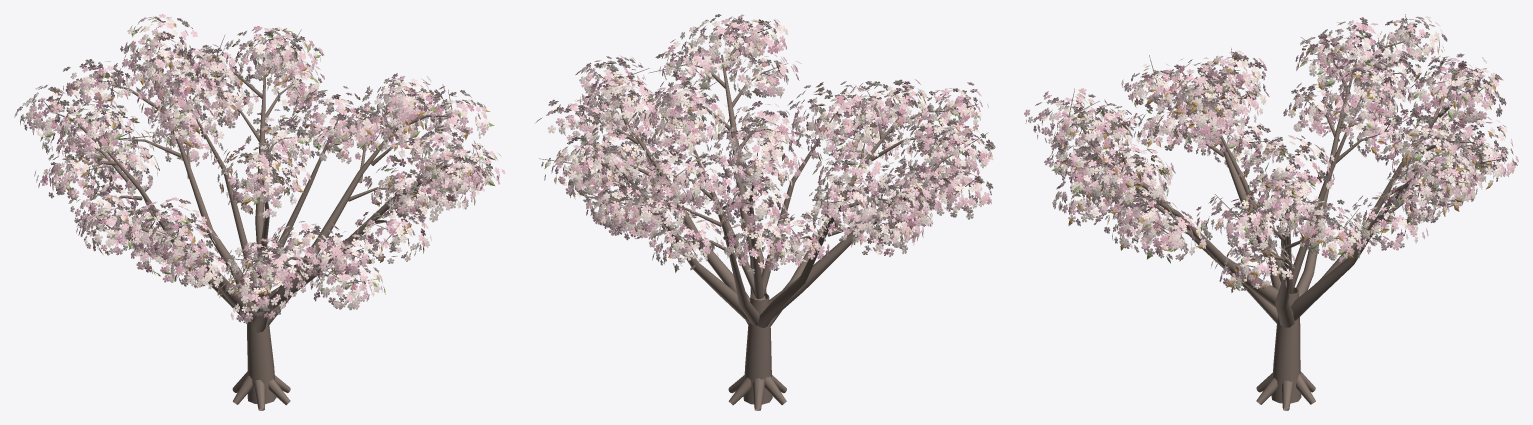
The model's file is sakura_tree_0.glb.
3 views of the same model, side by side, from view 1: azimuth 30°, elevation 25°; view 2: azimuth 150°, elevation 25°; view 3: azimuth 270°, elevation 25° (orthographic). The views are drawn at different scales.
Parts seen in each view (by area): view 1: sakura_tree_0_SakuraBloomIvory, sakura_tree_0_SakuraBloomBlush, sakura_tree_0_SakuraBark, sakura_tree_0_SakuraBloomRose, sakura_tree_0_SakuraLeafCopper, sakura_tree_0_SakuraLeafSage; view 2: sakura_tree_0_SakuraBloomIvory, sakura_tree_0_SakuraBloomBlush, sakura_tree_0_SakuraBark, sakura_tree_0_SakuraBloomRose, sakura_tree_0_SakuraLeafCopper, sakura_tree_0_SakuraLeafSage; view 3: sakura_tree_0_SakuraBloomIvory, sakura_tree_0_SakuraBloomBlush, sakura_tree_0_SakuraBark, sakura_tree_0_SakuraBloomRose, sakura_tree_0_SakuraLeafCopper, sakura_tree_0_SakuraLeafSage.
Part boxes in pixels (x1,y1,x2,y2): sakura_tree_0_SakuraBloomIvory: (14,17,495,323); sakura_tree_0_SakuraBloomBlush: (20,14,505,321); sakura_tree_0_SakuraBark: (42,27,478,410); sakura_tree_0_SakuraBloomRose: (36,18,498,302); sakura_tree_0_SakuraLeafCopper: (33,18,495,296); sakura_tree_0_SakuraLeafSage: (44,19,497,299); sakura_tree_0_SakuraBloomIvory: (541,14,995,274); sakura_tree_0_SakuraBloomBlush: (546,14,992,271); sakura_tree_0_SakuraBark: (539,21,988,410); sakura_tree_0_SakuraBloomRose: (538,19,990,261); sakura_tree_0_SakuraLeafCopper: (535,20,993,258); sakura_tree_0_SakuraLeafSage: (544,23,982,272); sakura_tree_0_SakuraBloomIvory: (1028,16,1514,288); sakura_tree_0_SakuraBloomBlush: (1024,17,1518,290); sakura_tree_0_SakuraBark: (1066,14,1504,410); sakura_tree_0_SakuraBloomRose: (1037,22,1513,285); sakura_tree_0_SakuraLeafCopper: (1057,23,1507,292); sakura_tree_0_SakuraLeafSage: (1051,26,1515,290).
Size of the model in its own units: 10.03 by 7.46 by 10.39.
